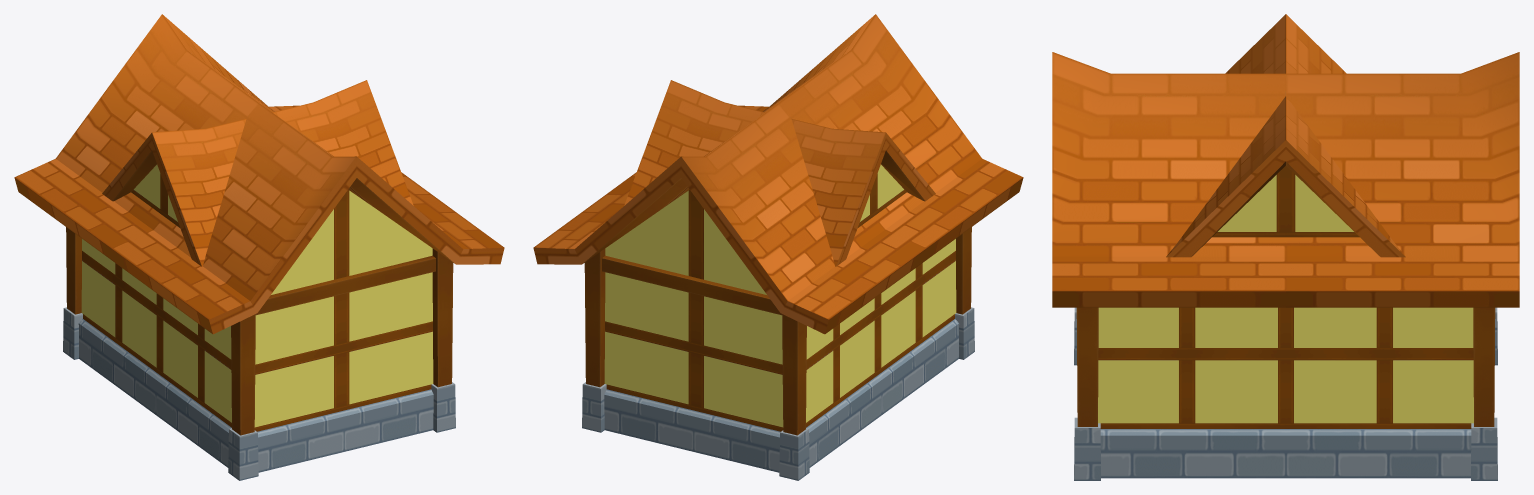
The model's file is BLD0310046.fbx.
3 renders of one model, left to right at view 1: azimuth 30°, elevation 25°; view 2: azimuth 150°, elevation 25°; view 3: azimuth 270°, elevation 25°, orthographic. The views are drawn at different scales.
Parts seen in each view (by area): view 1: smBLD0310046; view 2: smBLD0310046; view 3: smBLD0310046.
Boxes of the visible parts, x1,y1,x2,y2 form: smBLD0310046: [14, 14, 504, 480]; smBLD0310046: [533, 14, 1023, 480]; smBLD0310046: [1052, 14, 1519, 480].
Size of the model in its own units: 152 by 149 by 173.
1 material, 1 textured.
